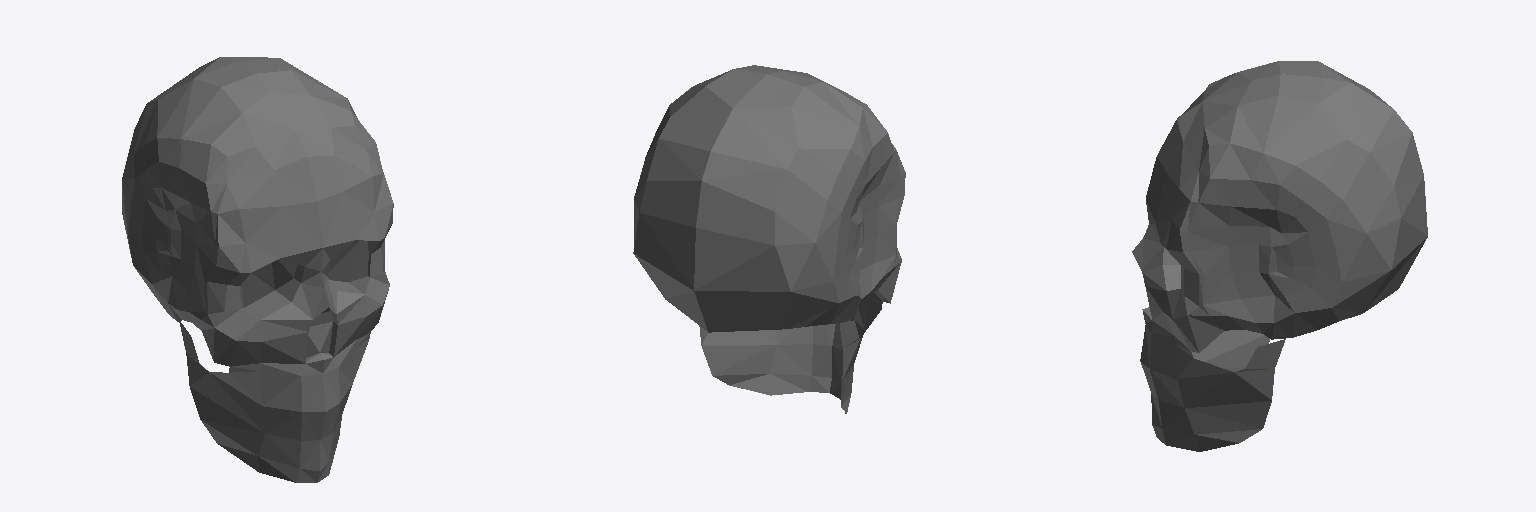
Rendered from Skull_m.obj.
3 views of the same model, side by side, from view 1: azimuth 30°, elevation 25°; view 2: azimuth 150°, elevation 25°; view 3: azimuth 270°, elevation 25° (orthographic).
Visible parts, largest first — view 1: Skull_m group6; view 2: Skull_m group6; view 3: Skull_m group6.
Boxes of the visible parts, <box> form: Skull_m group6: <box>122,57,393,482</box>; Skull_m group6: <box>633,65,905,413</box>; Skull_m group6: <box>1132,61,1427,451</box>.
Size of the model in its own units: 0.1383 by 0.2478 by 0.1828.